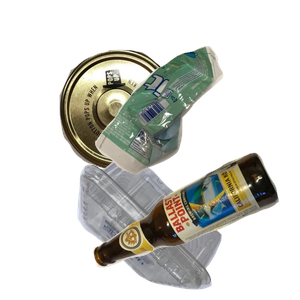glass: (91, 150, 300, 300)
metal: (57, 47, 227, 211)
plastic: (75, 147, 289, 300)
trash: (92, 44, 300, 211)
